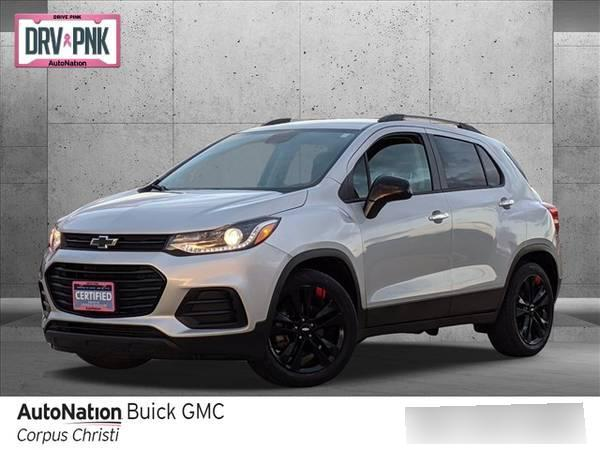Front_Bumper: (40, 230, 295, 358)
Front_Fender: (267, 177, 366, 320)
Front_Left_Door: (355, 195, 451, 327)
Front_Left_Window: (344, 133, 439, 206)
Front_Windshield: (146, 129, 360, 194)
Grille: (38, 263, 173, 355)
Hood: (57, 187, 309, 232)
Left_Headlight: (166, 215, 284, 258)
Left_Taillight: (49, 222, 62, 251)
Rear_Fender: (509, 186, 563, 279)
Rear_Left_Door: (446, 187, 529, 321)
Rear_Left_Window: (427, 134, 505, 192)
Roof: (240, 117, 537, 190)
Wheel: (248, 270, 362, 390), (492, 260, 561, 353)
